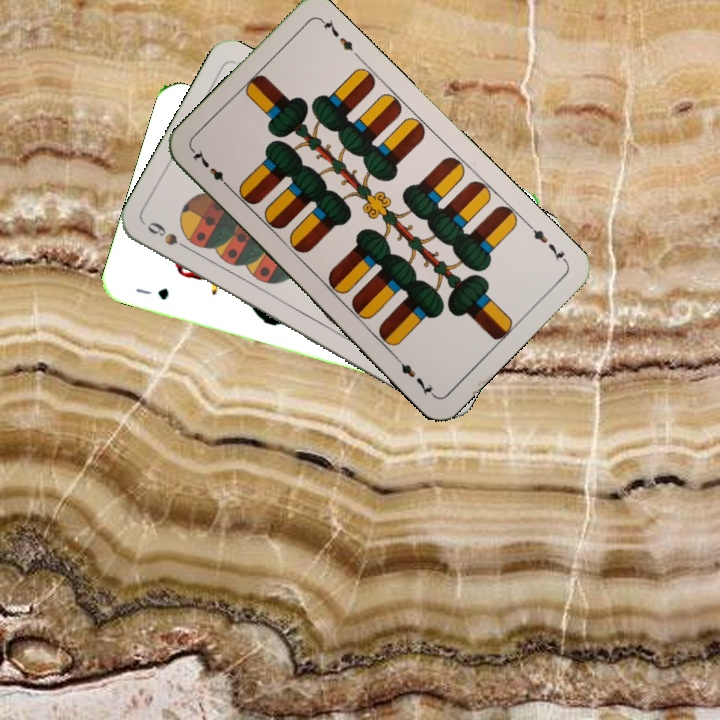E7: (188, 146, 234, 193), (523, 219, 570, 265)
GU: (132, 283, 172, 303)
S9: (143, 217, 196, 255)
